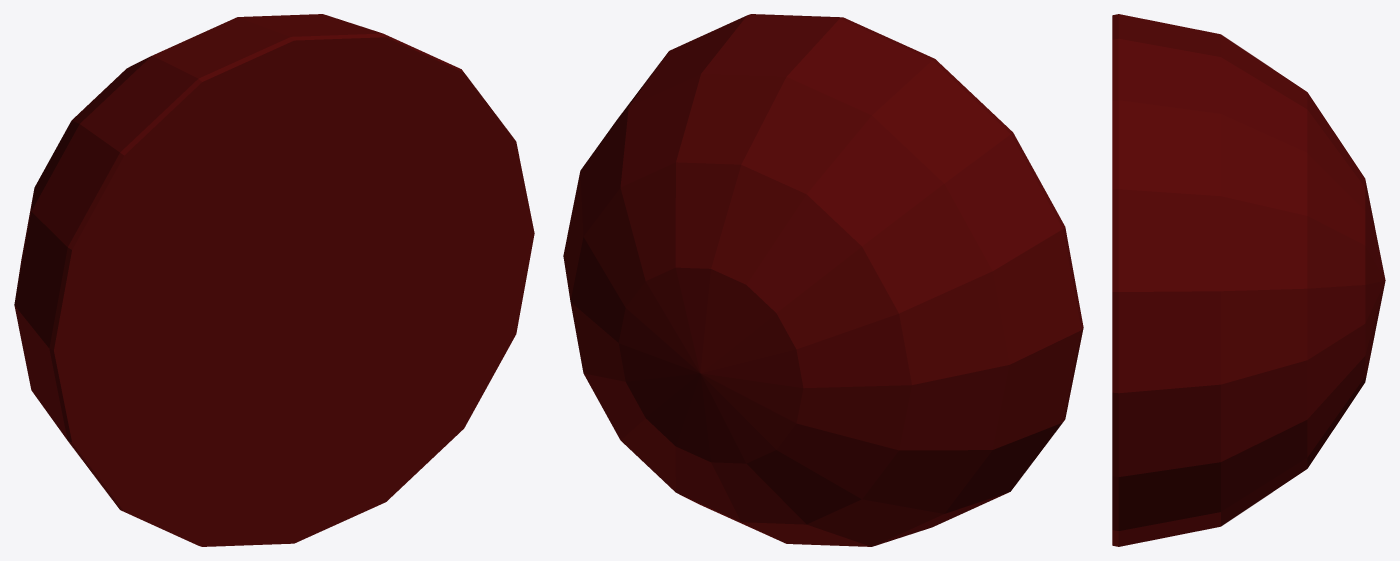
Rendered from red_btm.obj.
3 renders of one model, left to right at view 1: azimuth 30°, elevation 25°; view 2: azimuth 150°, elevation 25°; view 3: azimuth 270°, elevation 25°, orthographic. The views are drawn at different scales.
Parts seen in each view (by area): view 1: Sphere_Sphere.004; view 2: Sphere_Sphere.004; view 3: Sphere_Sphere.004.
Part boxes in pixels (box(x1,y1,x2,y2)): Sphere_Sphere.004: box(14, 14, 534, 546); Sphere_Sphere.004: box(563, 14, 1083, 546); Sphere_Sphere.004: box(1112, 14, 1385, 546).
Size of the model in its own units: 5.32 by 5.32 by 2.73.
